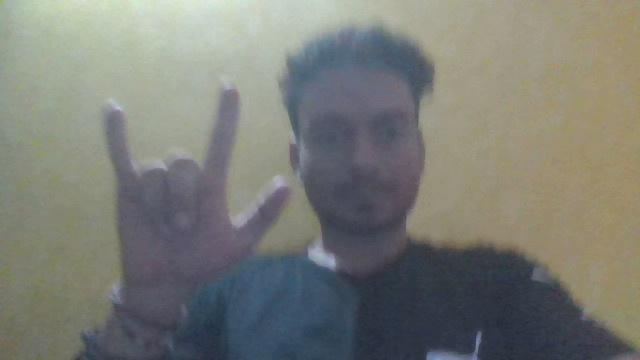Loveyou: (72, 83, 321, 317)
